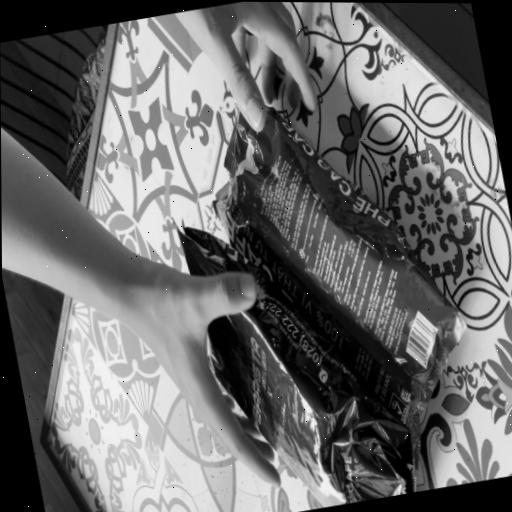cafe_hat: (179, 226, 414, 507)
cafe_xay: (225, 109, 465, 390)
